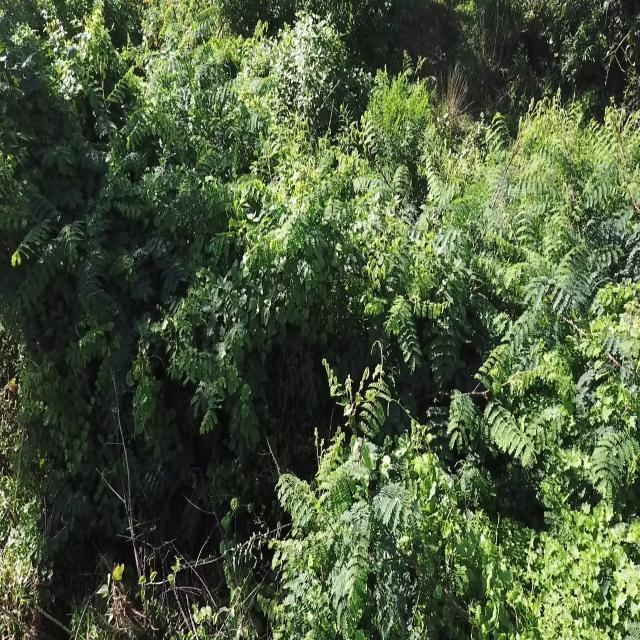Mysore-Thorn-Weed: (278, 433, 436, 640), (134, 0, 289, 138), (233, 135, 358, 293), (506, 273, 640, 410), (430, 345, 570, 472), (355, 208, 453, 368), (68, 222, 185, 296), (172, 344, 230, 434), (592, 422, 640, 502)
